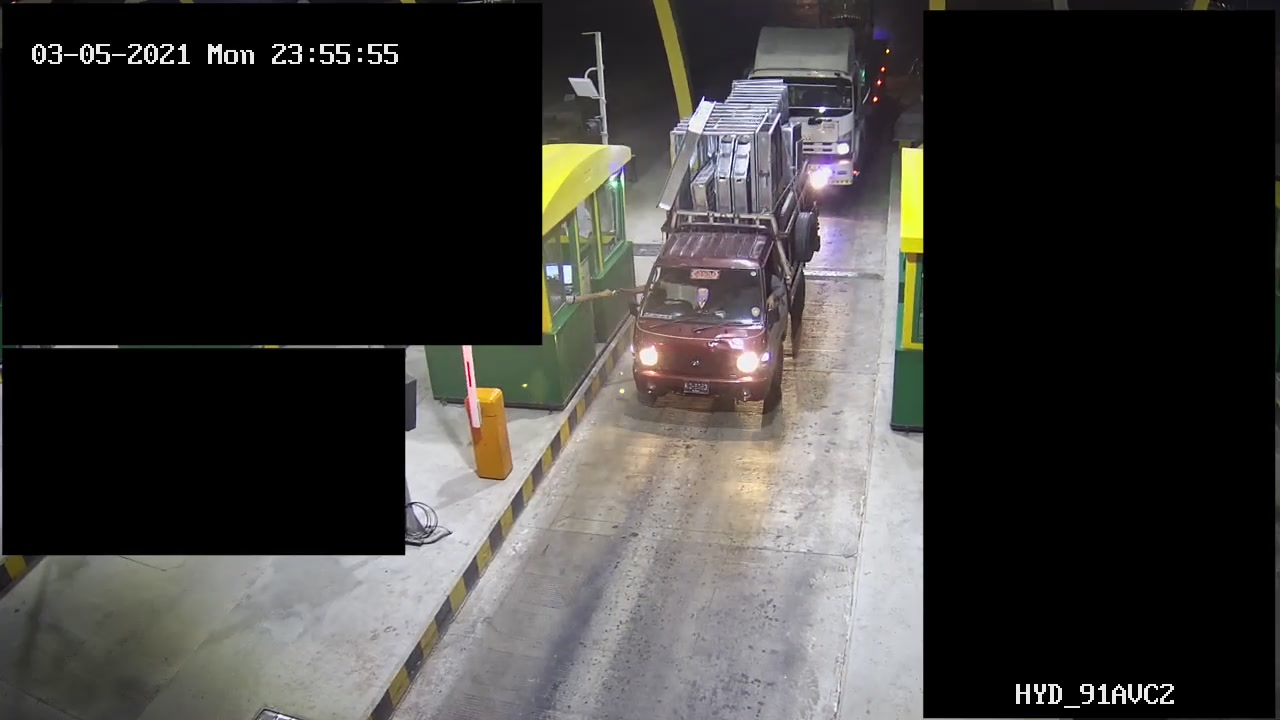F1: (626, 80, 822, 422)
